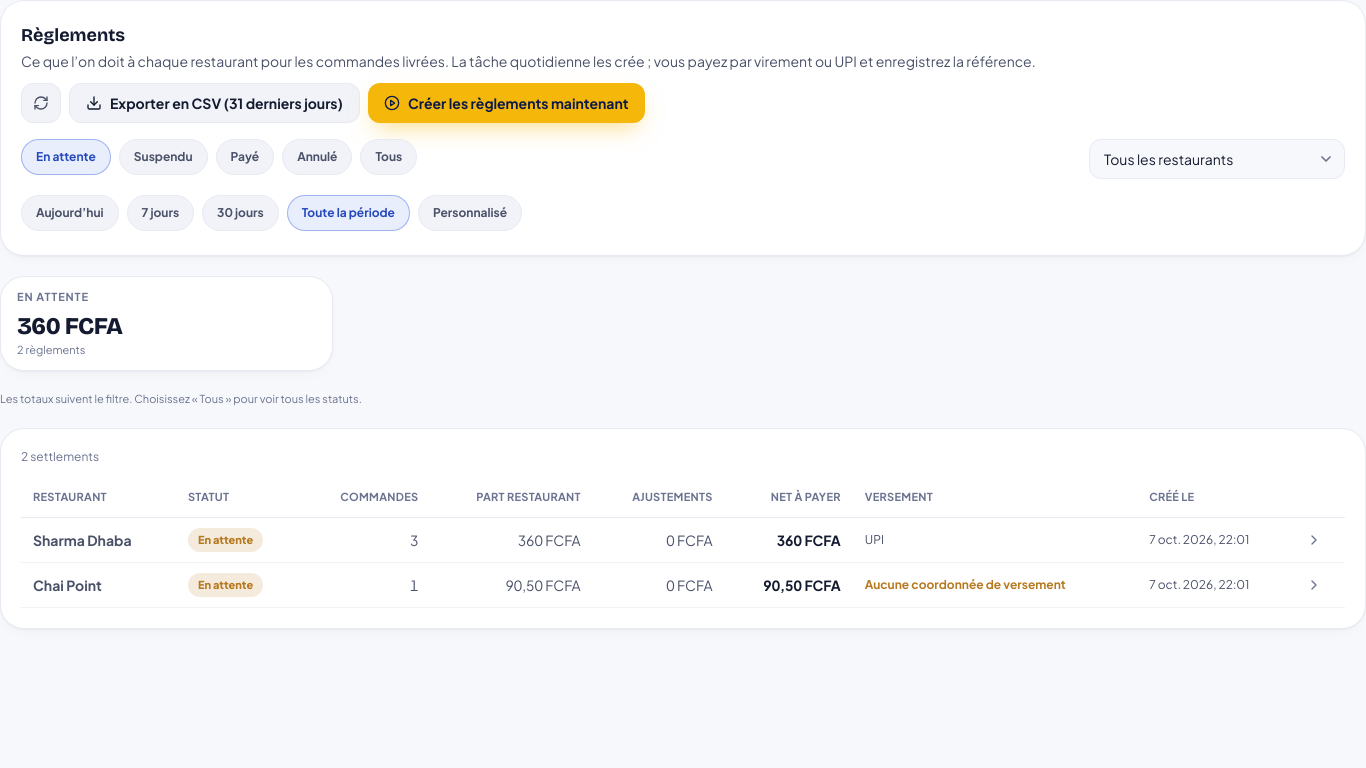
Test: Create settlements now › explains what it does, runs only after a yes, shows the server message and reloads
Click the button "Créer les règlements maintenant" at (506, 103), box [368, 83, 645, 123]
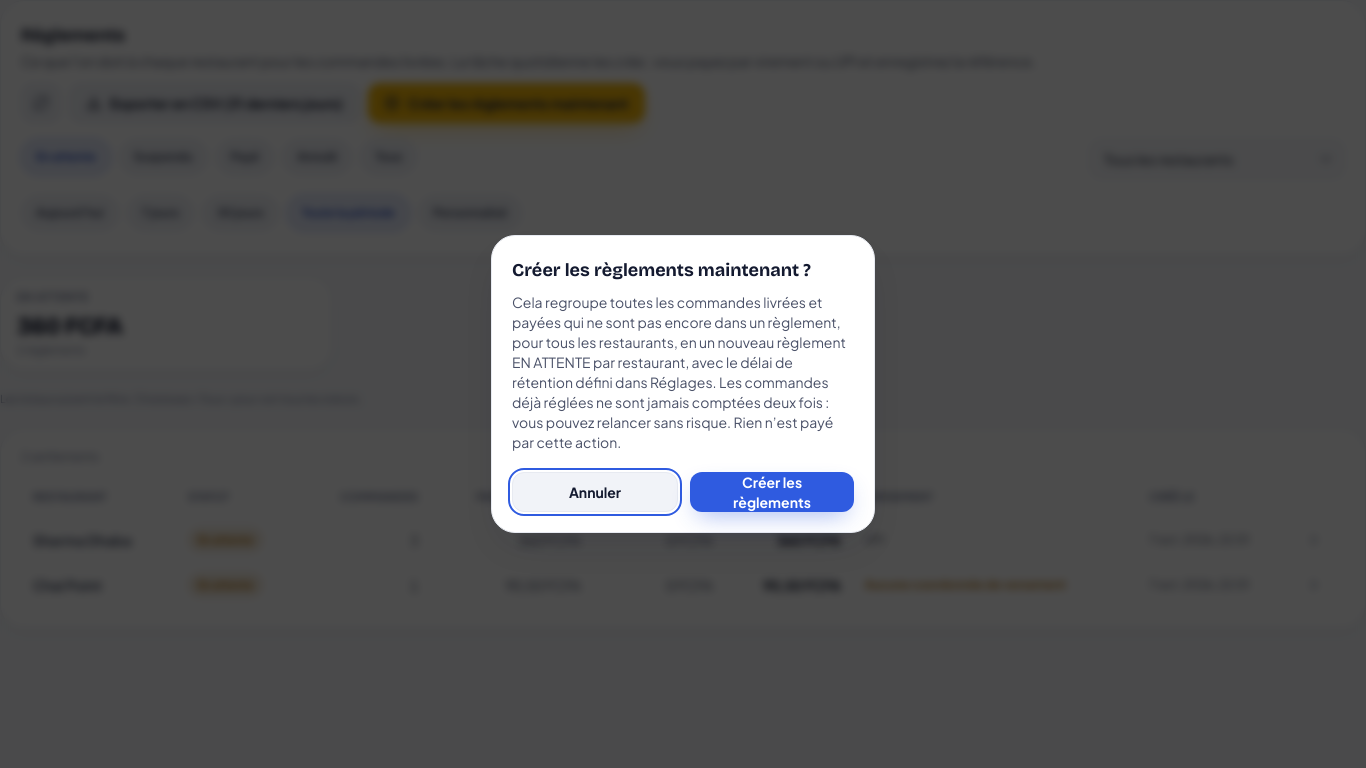
expect the dialog shows "commandes livrées et payées": met, box [512, 293, 846, 451]
expect the dialog shows "relancer sans risque": met, box [512, 293, 846, 451]
expect the dialog shows "Rien n’est payé": met, box [512, 293, 846, 451]
Click the button "Annuler" at (595, 492), box [512, 472, 678, 512]
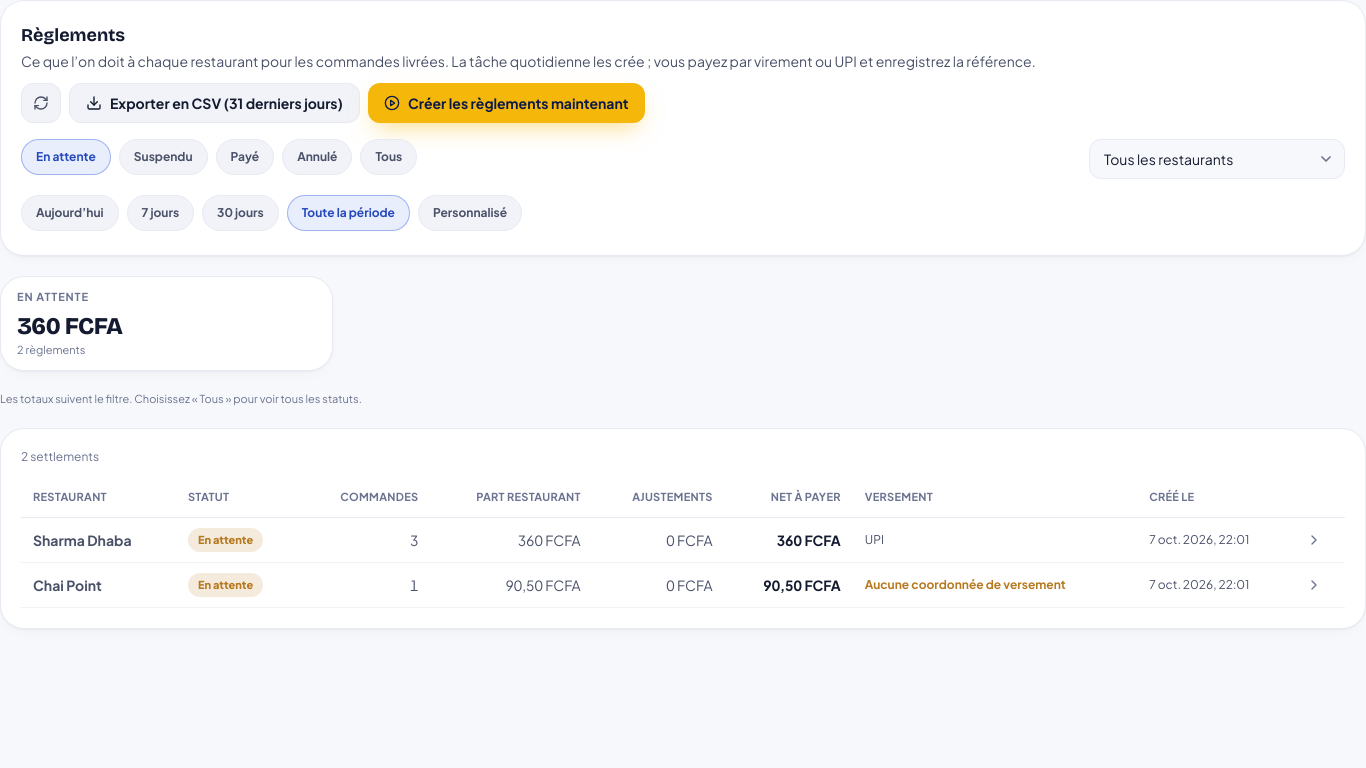
Click the button "Créer les règlements maintenant" at (506, 103), box [368, 83, 645, 123]
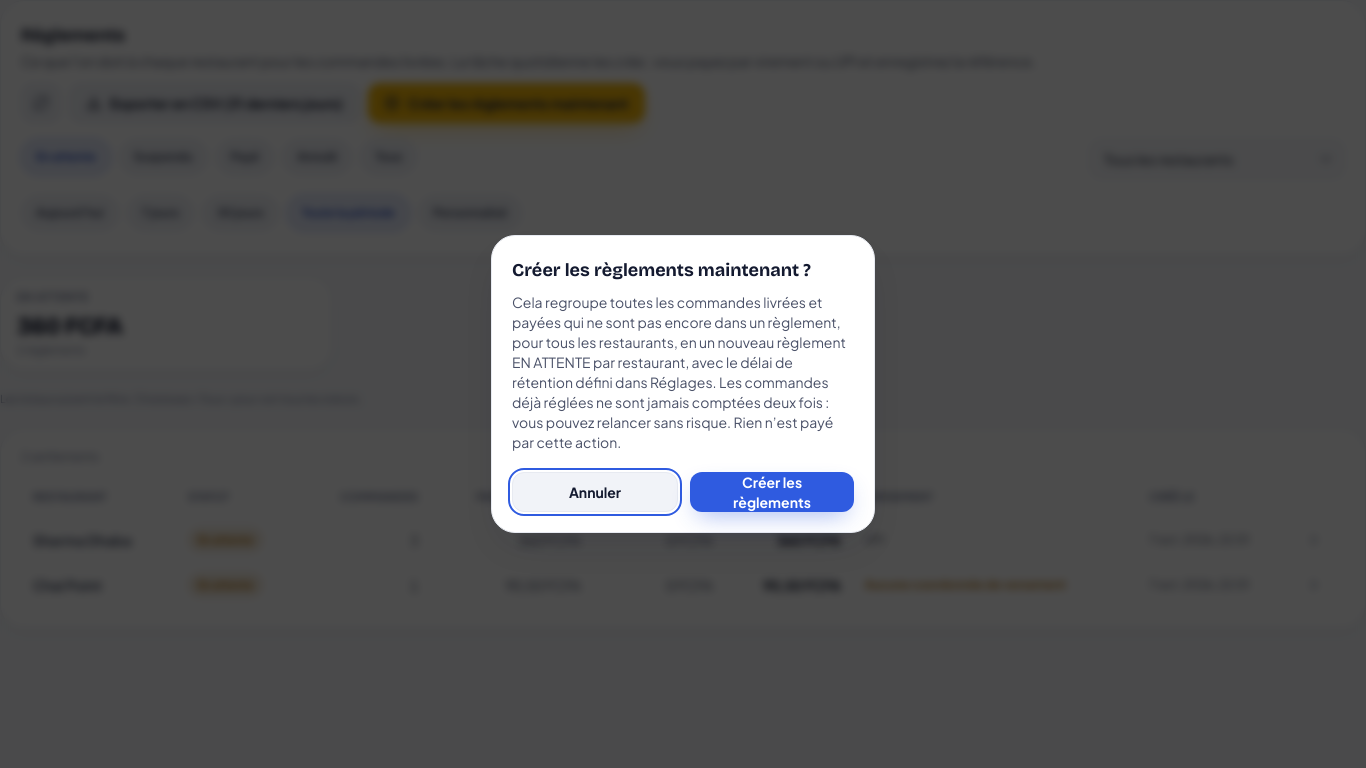
Click the button "Créer les règlements" at (772, 492), box [690, 472, 854, 512]
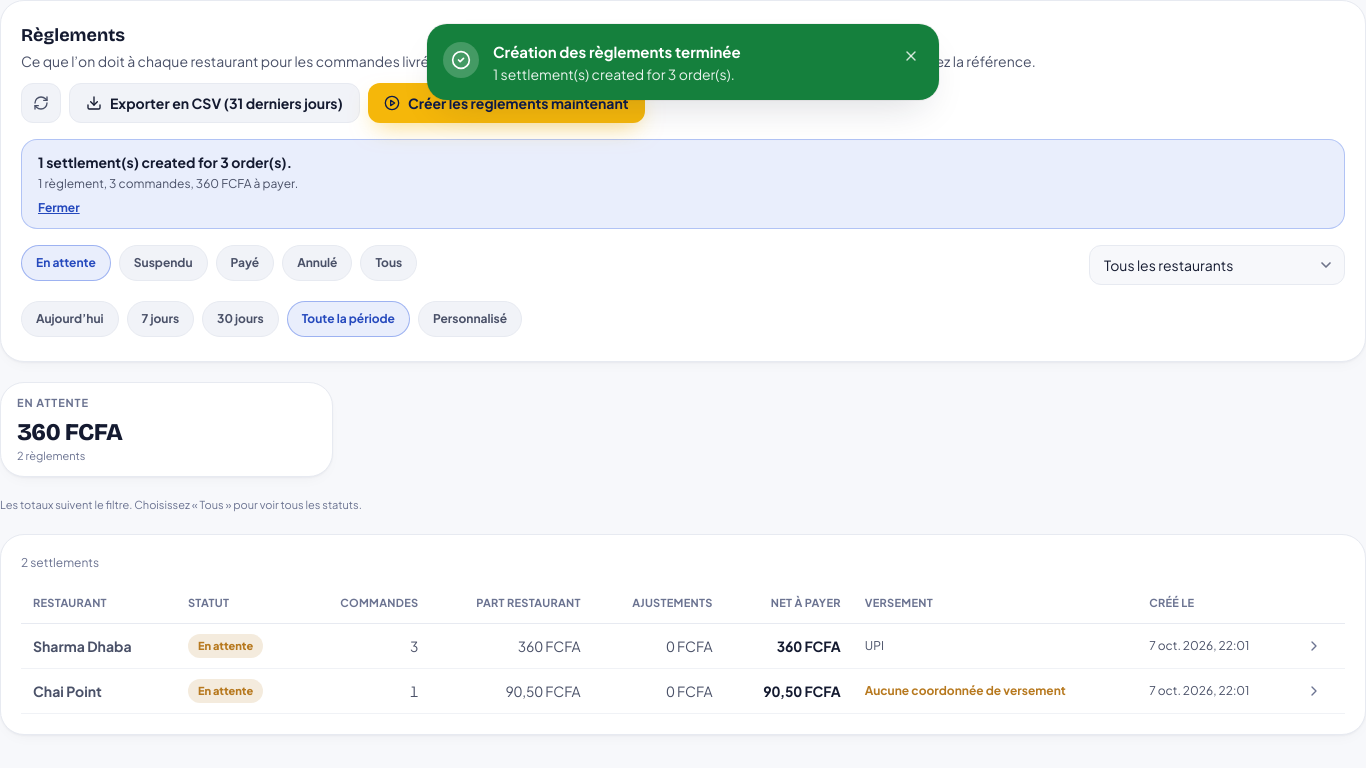
expect the message with test id "run-result" shows "1 settlement(s) created for 3 order(s).": met, box [38, 153, 292, 171]
expect the message with test id "run-result" shows "360 FCFA à payer": met, box [21, 139, 1345, 229]
